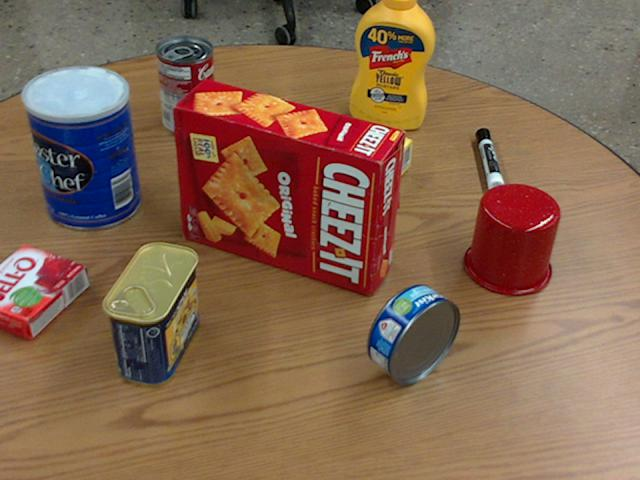cracker_box: (174, 79, 404, 295)
gelatin_box: (0, 243, 86, 337)
large_marker: (477, 128, 504, 192)
master_chef_can: (22, 67, 139, 230)
mug: (463, 183, 559, 294)
mustard_bottle: (351, 0, 435, 128)
potted_meat_can: (100, 240, 196, 384)
sugar_box: (246, 99, 412, 201)
tomato_soup_can: (156, 35, 215, 134)
tuna_fish_can: (368, 284, 459, 383)
